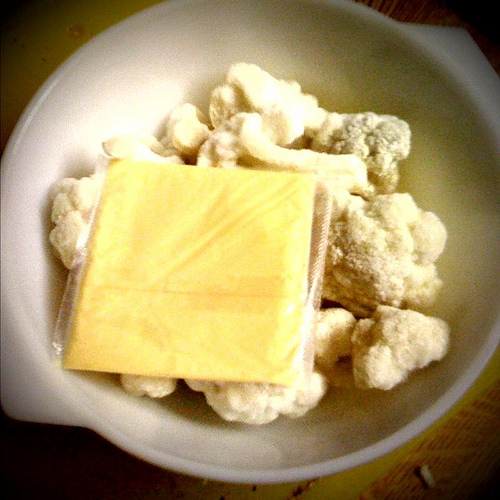cauliflower: (321, 190, 453, 306), (345, 298, 453, 395)
